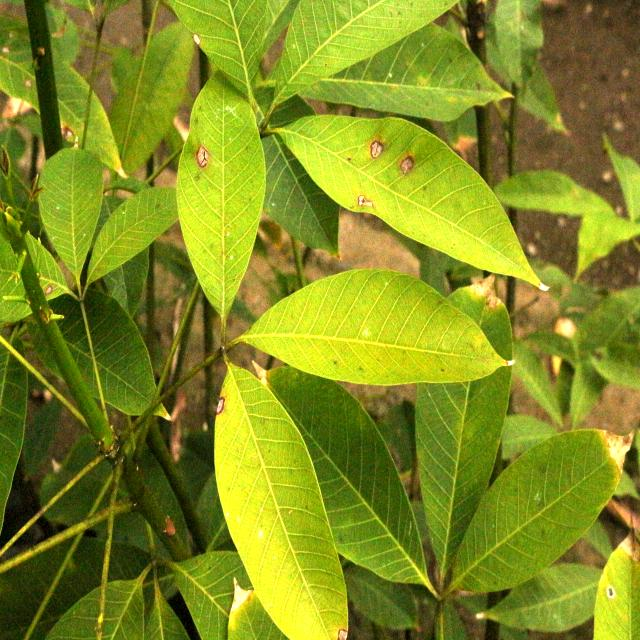Colletotrichum: (196, 146, 209, 169), (400, 154, 414, 174), (370, 140, 384, 158), (216, 396, 226, 415), (606, 586, 616, 599)
Leaf-Blight: (607, 429, 634, 473), (621, 515, 640, 561), (229, 578, 251, 612), (45, 285, 53, 296)
